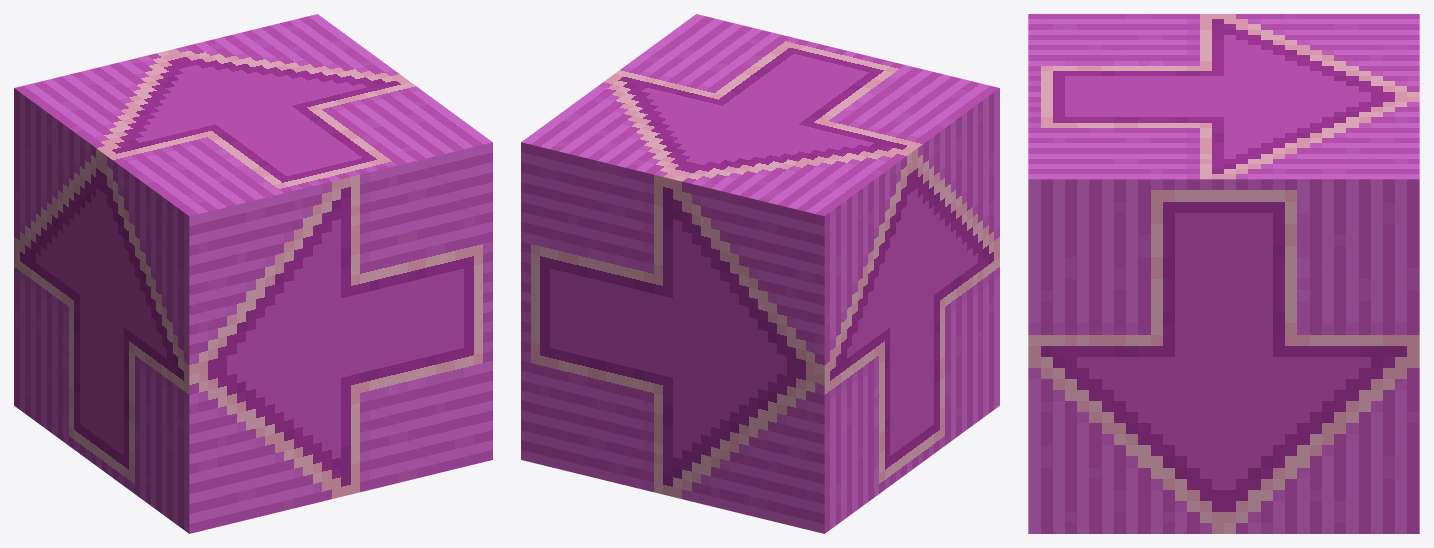
File: block_magenta_glazed_terracotta.gltf
3 renders of one model, left to right at view 1: azimuth 30°, elevation 25°; view 2: azimuth 150°, elevation 25°; view 3: azimuth 270°, elevation 25°, orthographic. The views are drawn at different scales.
Parts seen in each view (by area): view 1: cube; view 2: cube; view 3: cube.
Part boxes in pixels (x1,y1,x2,y2): cube: (14, 14, 492, 533); cube: (521, 14, 999, 533); cube: (1028, 14, 1419, 533).
Bounding box in the file's own units: 1 × 1 × 1.
7 materials, 7 textured.
